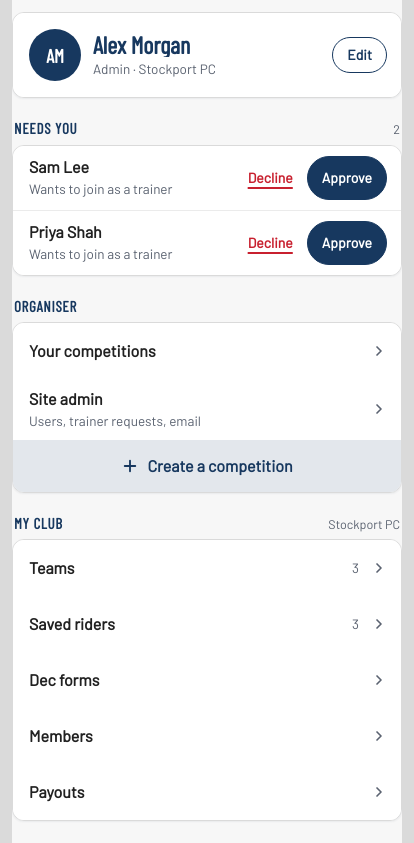
Test: ProfilePage: needs you › shows the server's own words when it refuses
The width and height of the screenshot is (414, 843).
Click the button with aria-label "Approve Sam Lee".
click(347, 178)  # box [307,156,387,200]
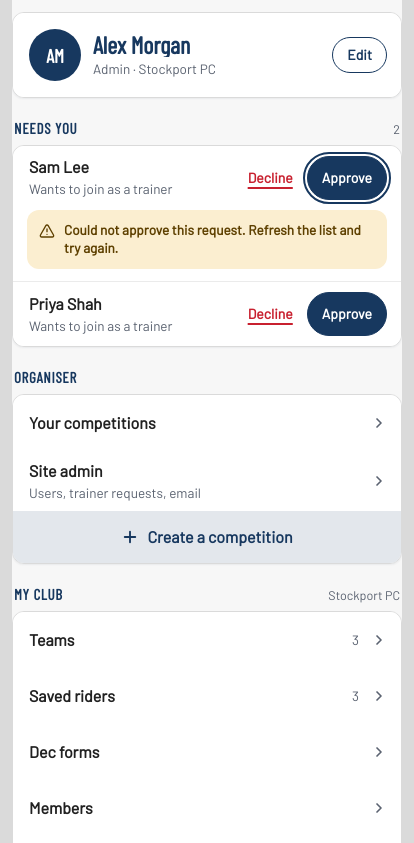
Expected: the message shows "Refresh the list and try again.", [64,220,361,256]
